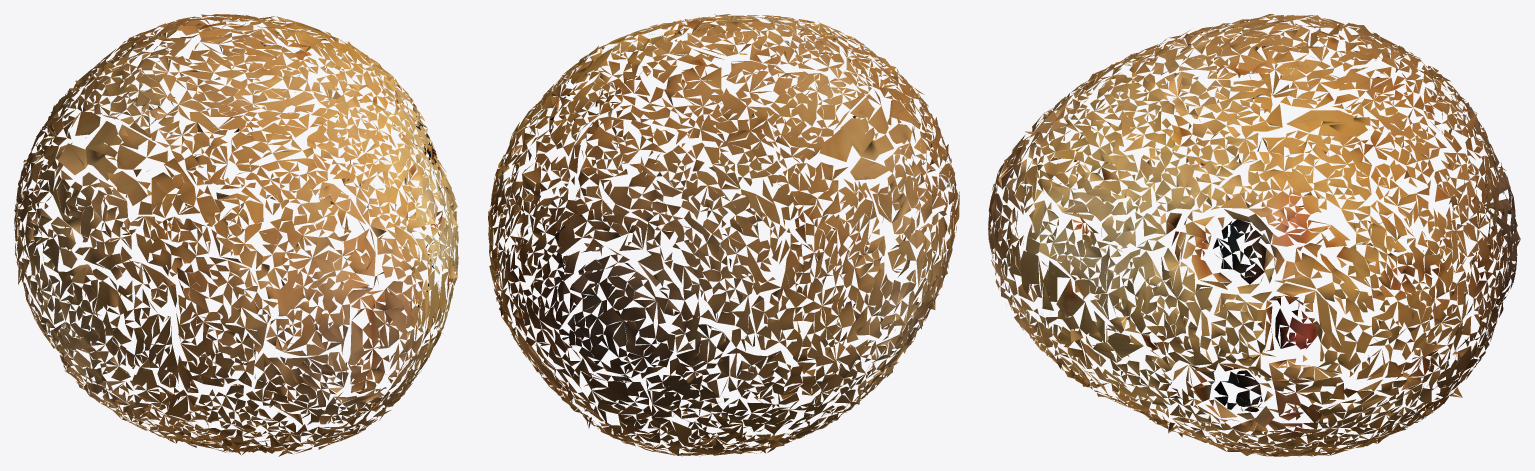
The model's file is veg_potato.glb.
3 renders of one model, left to right at view 1: azimuth 30°, elevation 25°; view 2: azimuth 150°, elevation 25°; view 3: azimuth 270°, elevation 25°, orthographic. The views are drawn at different scales.
Parts seen in each view (by area): view 1: mesh.obj; view 2: mesh.obj; view 3: mesh.obj.
Boxes of the visible parts, x1,y1,x2,y2 form: mesh.obj: (14,14,458,456); mesh.obj: (488,14,959,456); mesh.obj: (988,14,1520,456).
Size of the model in its own units: 0.7805 by 0.7649 by 0.9235.
Materials: 1 (1 with a texture image).
